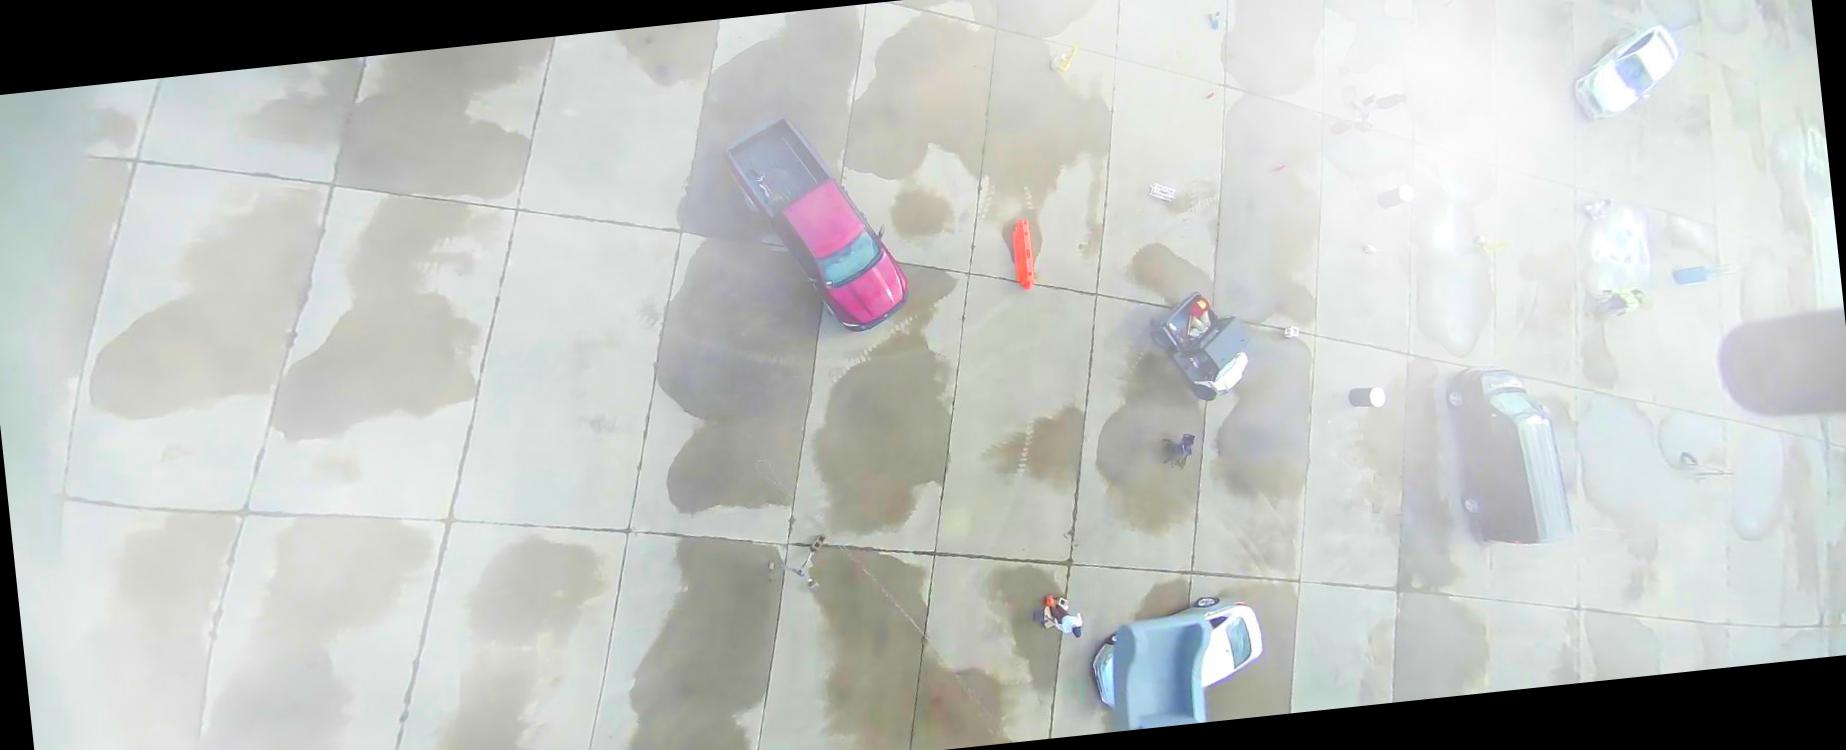vehicle: (717, 105, 911, 344), (1442, 357, 1575, 552), (1085, 591, 1268, 714), (1148, 286, 1257, 406), (1568, 22, 1687, 122)
